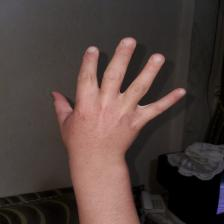five: (50, 34, 189, 158)
